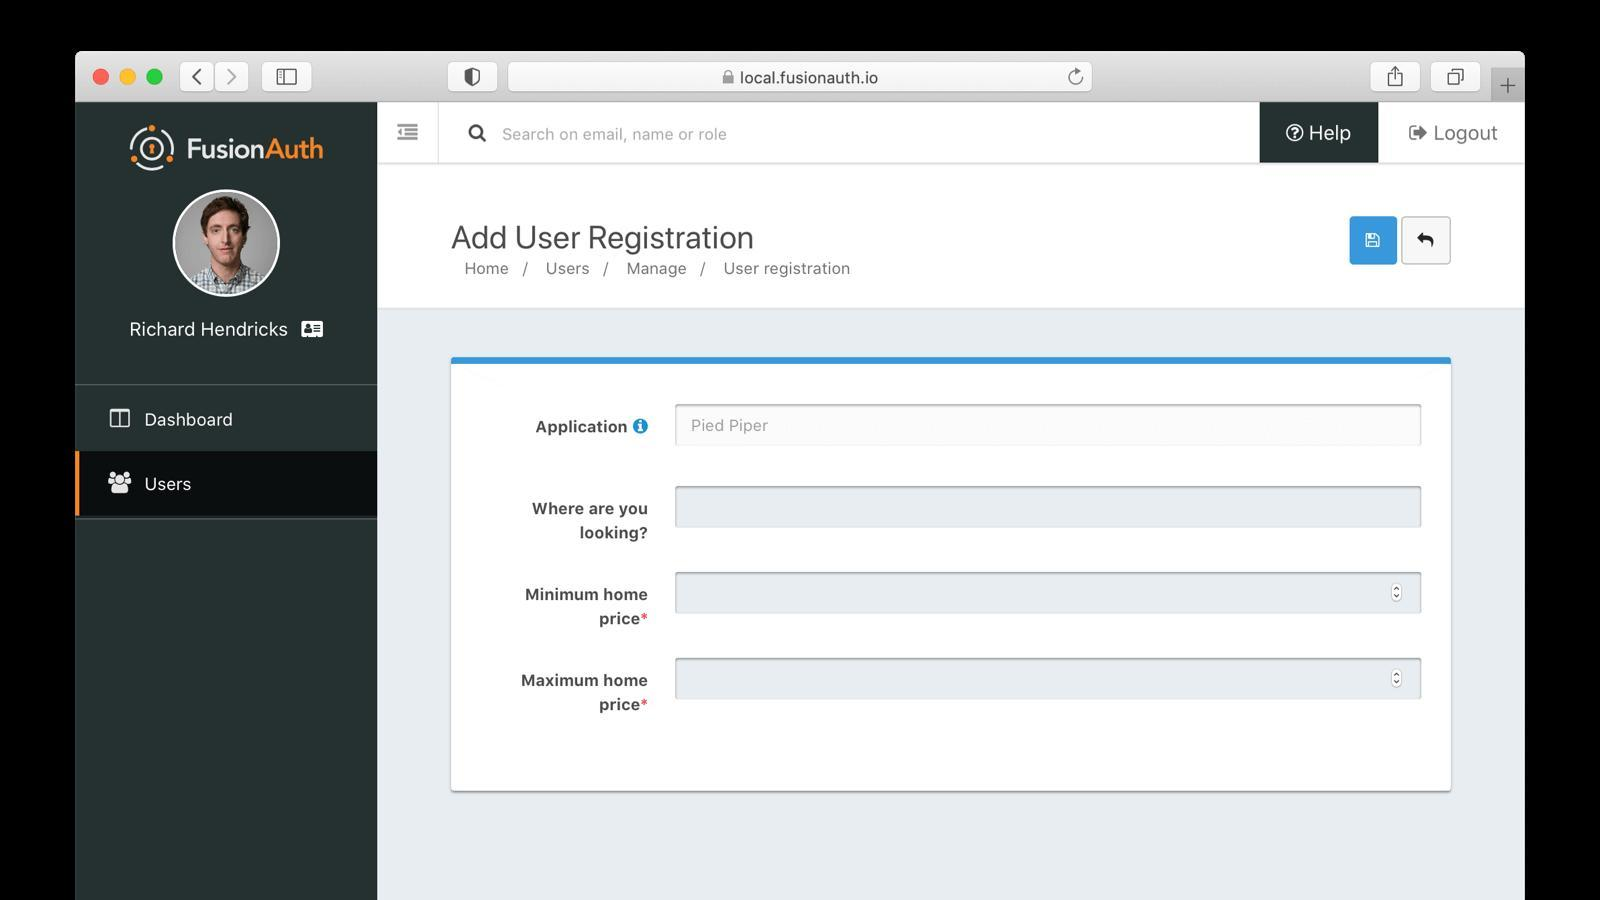button: (1380, 104, 1525, 163), (1262, 103, 1380, 163)
icon: (299, 314, 335, 347), (462, 116, 496, 149), (393, 120, 424, 149), (105, 469, 135, 496), (460, 66, 489, 91), (108, 407, 136, 431), (1360, 230, 1385, 254), (1414, 233, 1441, 255), (1388, 67, 1407, 89), (1447, 69, 1469, 88)
input: (438, 103, 1262, 164)
label: (445, 216, 760, 258), (518, 673, 652, 715), (522, 588, 649, 629), (122, 315, 293, 345), (531, 501, 651, 543), (532, 416, 654, 440), (144, 408, 238, 431), (143, 474, 195, 496)
